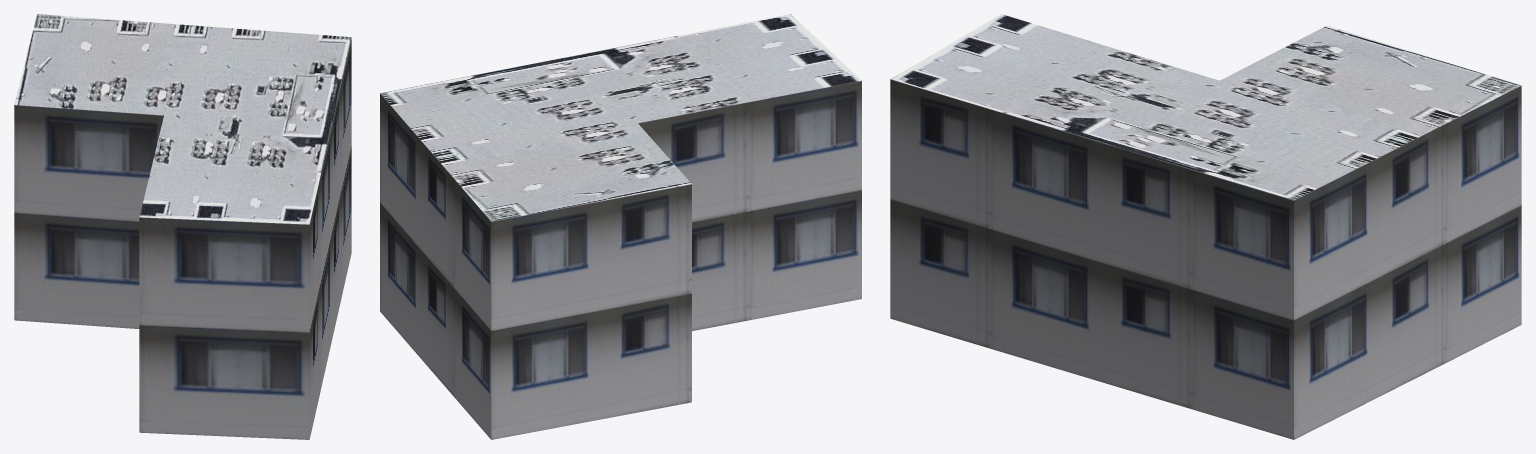
Rendered from ResTex__1917.fbx.
The picture shows the model from 3 angles, left to right: view 1: azimuth 30°, elevation 25°; view 2: azimuth 150°, elevation 25°; view 3: azimuth 270°, elevation 25°; orthographic projection. The views are drawn at different scales.
Visible parts, largest first — view 1: CityEngineMaterial_9_m, CityEngineMaterial_m; view 2: CityEngineMaterial_9_m, CityEngineMaterial_m; view 3: CityEngineMaterial_9_m, CityEngineMaterial_m.
Boxes of the visible parts, x1,y1,x2,y2 form: CityEngineMaterial_9_m: (14,38,351,439); CityEngineMaterial_m: (14,14,351,224); CityEngineMaterial_9_m: (380,81,861,439); CityEngineMaterial_m: (380,14,861,221); CityEngineMaterial_9_m: (890,79,1521,439); CityEngineMaterial_m: (890,14,1521,200).
Size of the model in its own units: 10.03 by 6 by 14.34.
Materials: 2 (2 with a texture image).
